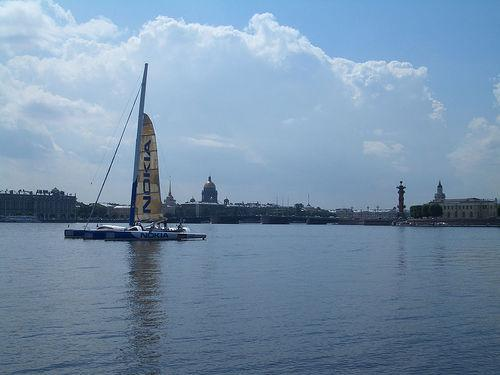Ship: (66, 64, 210, 243)
